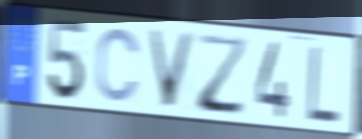4: (255, 39, 290, 121)
5: (45, 15, 89, 103)
C: (94, 25, 143, 105)
L: (306, 43, 341, 127)
V: (145, 27, 198, 111)
Z: (196, 31, 250, 119)
